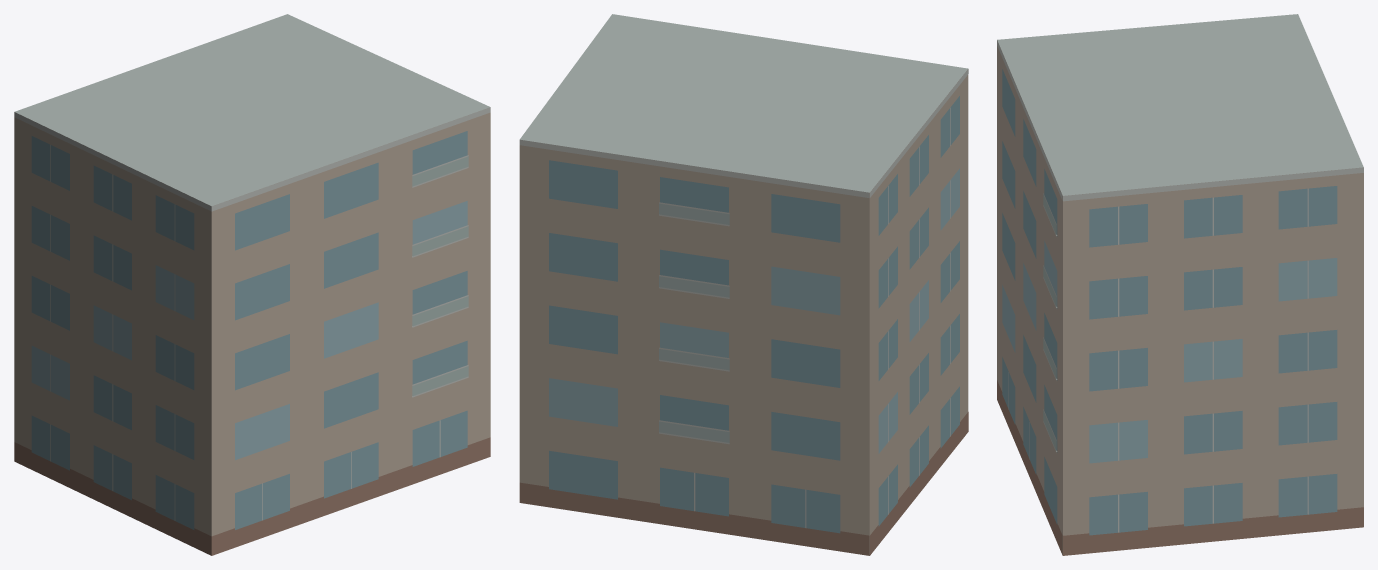
The model's file is survey-upis-32494672.glb.
3 views of the same model, side by side, from view 1: azimuth 30°, elevation 25°; view 2: azimuth 150°, elevation 25°; view 3: azimuth 270°, elevation 25° (orthographic). The views are drawn at different scales.
Visible parts, largest first — view 1: survey-upis-32494672.tmp; view 2: survey-upis-32494672.tmp; view 3: survey-upis-32494672.tmp.
Boxes of the visible parts, box(x1,y1,x2,y2) form: survey-upis-32494672.tmp: box(14, 14, 490, 555); survey-upis-32494672.tmp: box(519, 14, 968, 555); survey-upis-32494672.tmp: box(997, 14, 1363, 555).
Size of the model in its own units: 17.41 by 16.05 by 14.83.
